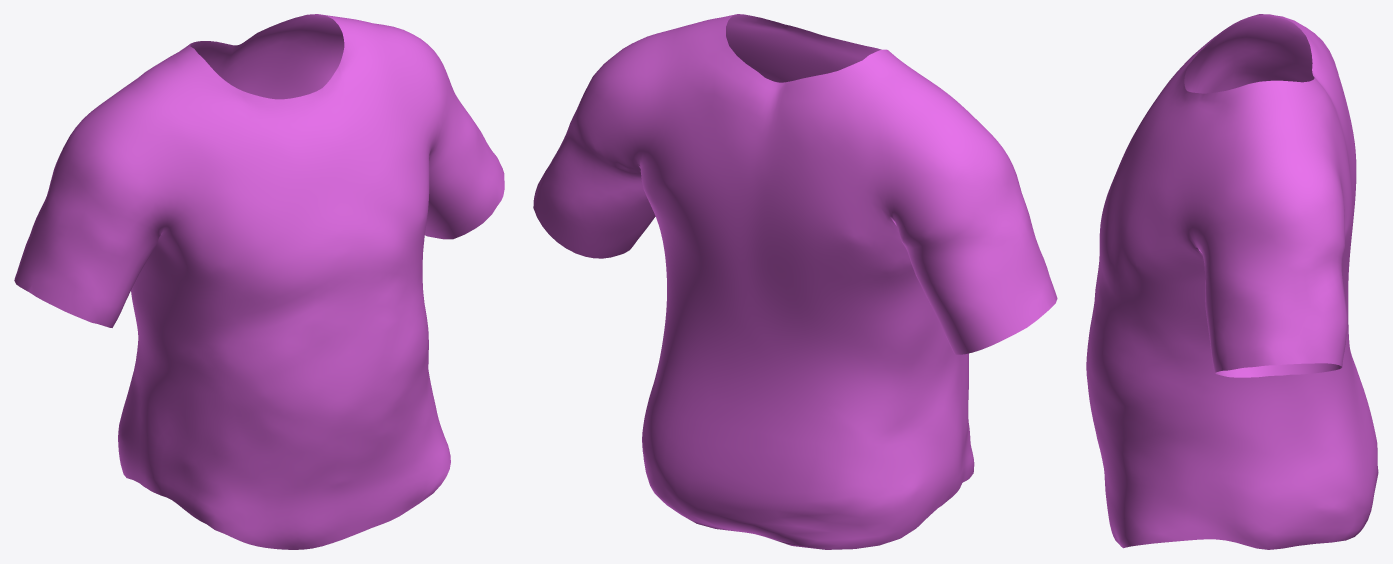
The model's file is Male-XX-Large-Tshirt.glb.
The picture shows the model from 3 angles, left to right: view 1: azimuth 30°, elevation 25°; view 2: azimuth 150°, elevation 25°; view 3: azimuth 270°, elevation 25°; orthographic projection. The views are drawn at different scales.
Parts seen in each view (by area): view 1: Group1.015; view 2: Group1.015; view 3: Group1.015.
Part boxes in pixels (x1,y1,x2,y2): Group1.015: [14, 14, 504, 549]; Group1.015: [533, 14, 1057, 549]; Group1.015: [1086, 14, 1378, 549].
Size of the model in its own units: 1.42 by 1.3 by 0.732.
